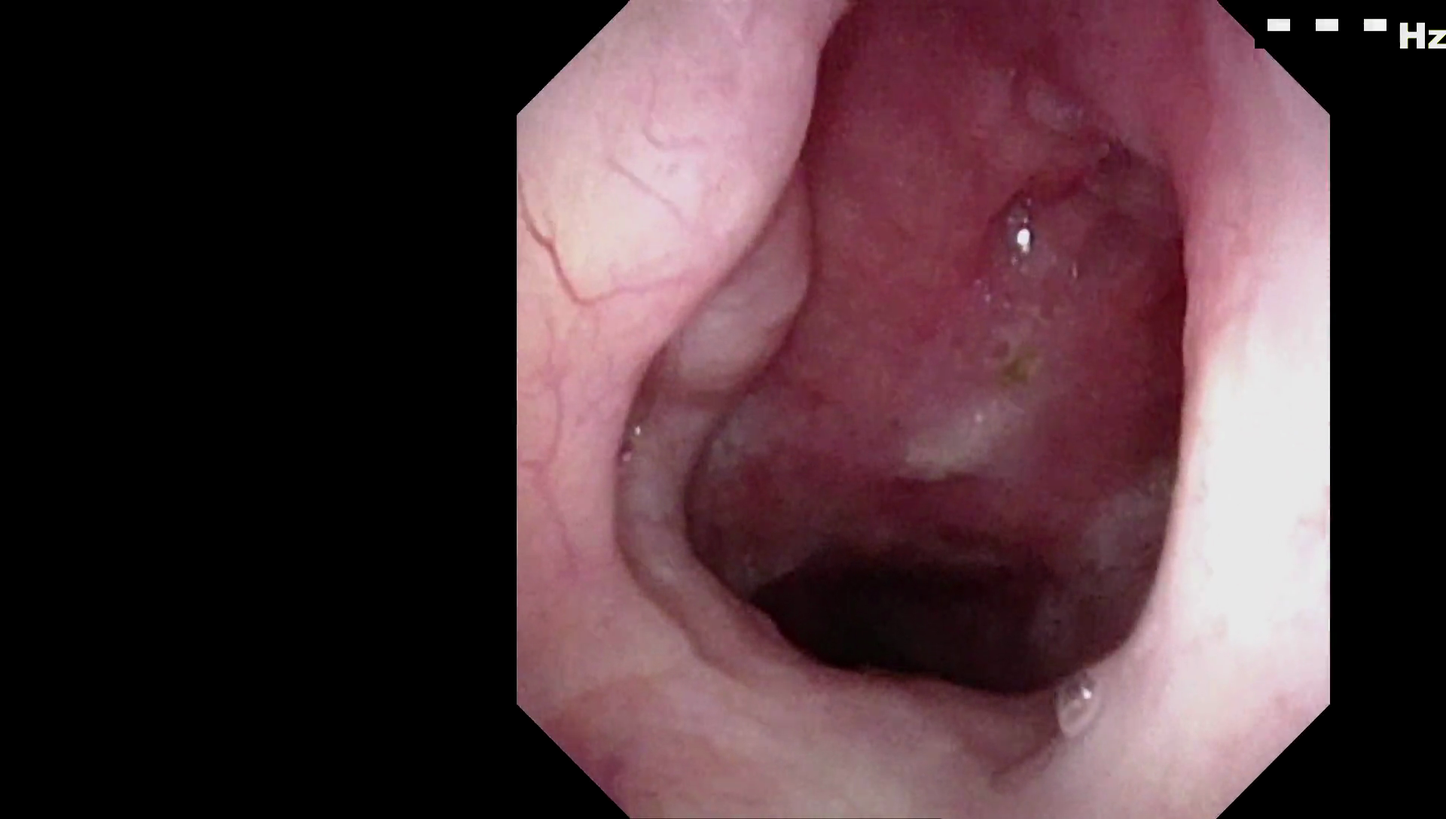next: (713, 477, 1104, 714)
